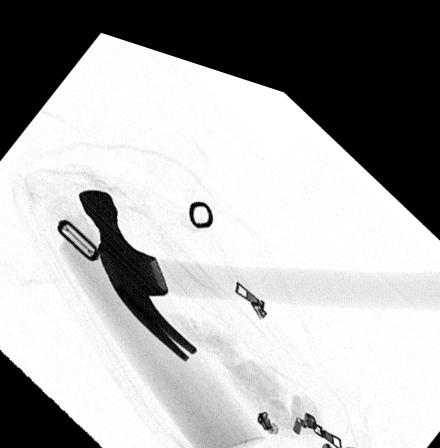Hammer: (77, 184, 440, 350)
